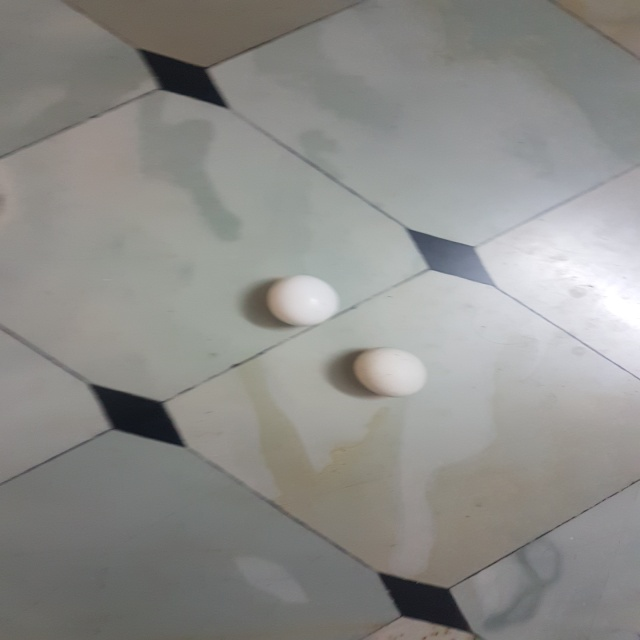eggs: (265, 275, 340, 328), (353, 349, 428, 397)
